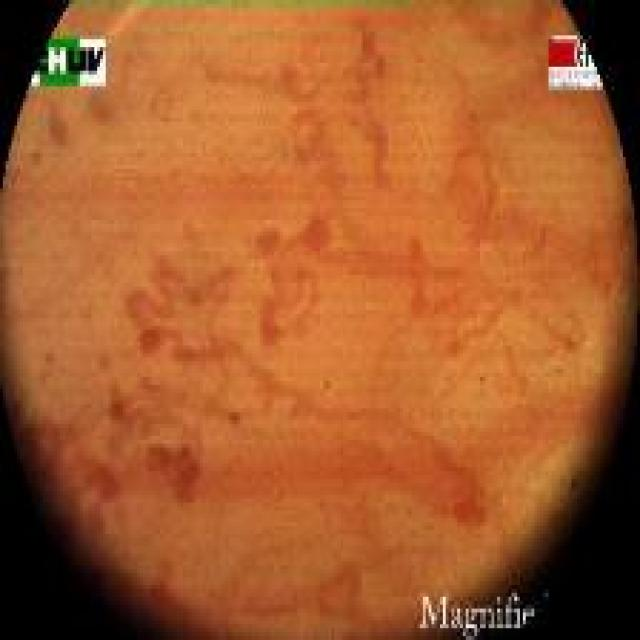color misalignment: (417, 582, 541, 640), (28, 34, 110, 90), (546, 34, 607, 96), (565, 467, 583, 508), (319, 377, 332, 395), (477, 372, 488, 393), (555, 362, 566, 378)
